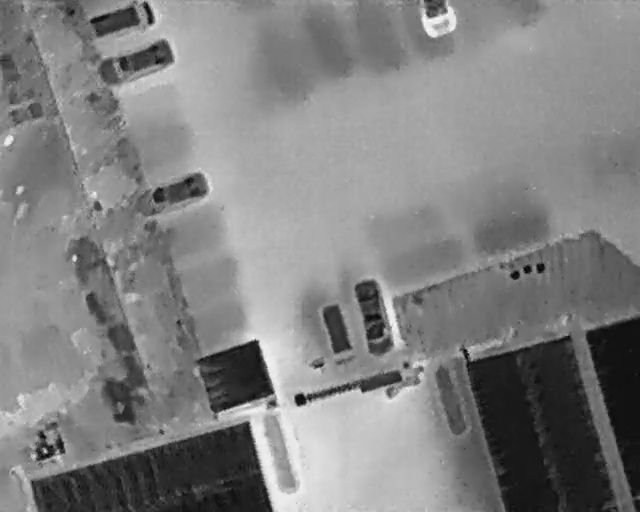Car: (95, 35, 179, 91), (131, 168, 213, 221), (349, 274, 399, 359), (86, 1, 156, 38), (418, 0, 459, 38)
